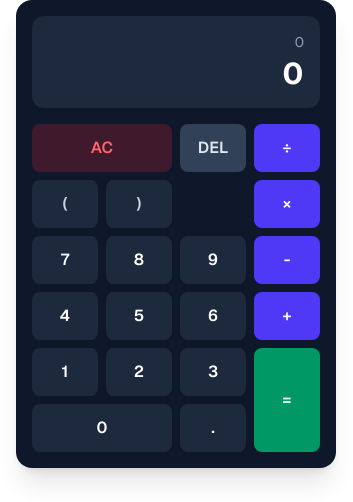
handleCalculate (failure path & loading completion) › sets errorMsg/result/display to the error message when the calculation rejects with an Error
What coordinates should you click on to do the following:
click the button "7"
I would click on:
 (65, 260)
Its box is [32,236,98,284].
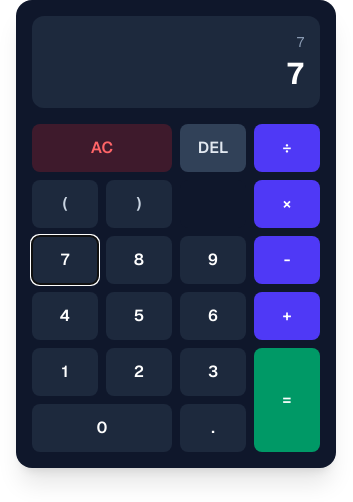
What coordinates should you click on to do the following:
click the button "÷"
I would click on:
 (287, 148)
Its box is [254,124,320,172].
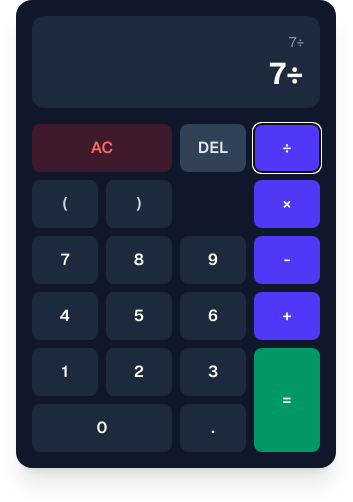
What coordinates should you click on to do the following:
click the button "0"
I would click on:
 (102, 428)
Its box is [32,404,172,452].
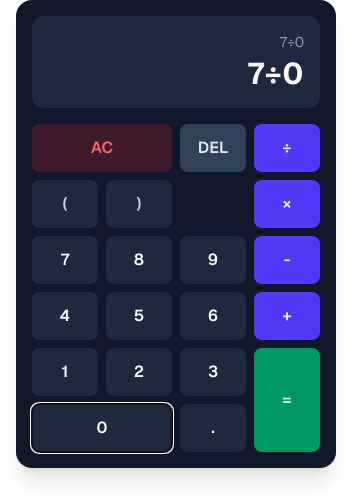
What coordinates should you click on to do the following:
click the button "="
I would click on:
 (287, 400)
Its box is [254,348,320,452].
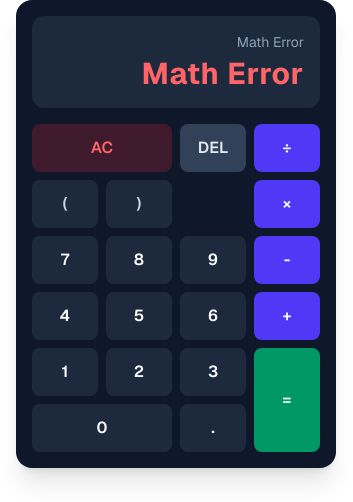
Expected: the 2nd text "Math Error" is shown, [142,56,304,92]
Expected: the 1st text "Math Error" is shown, [237,33,304,51]
